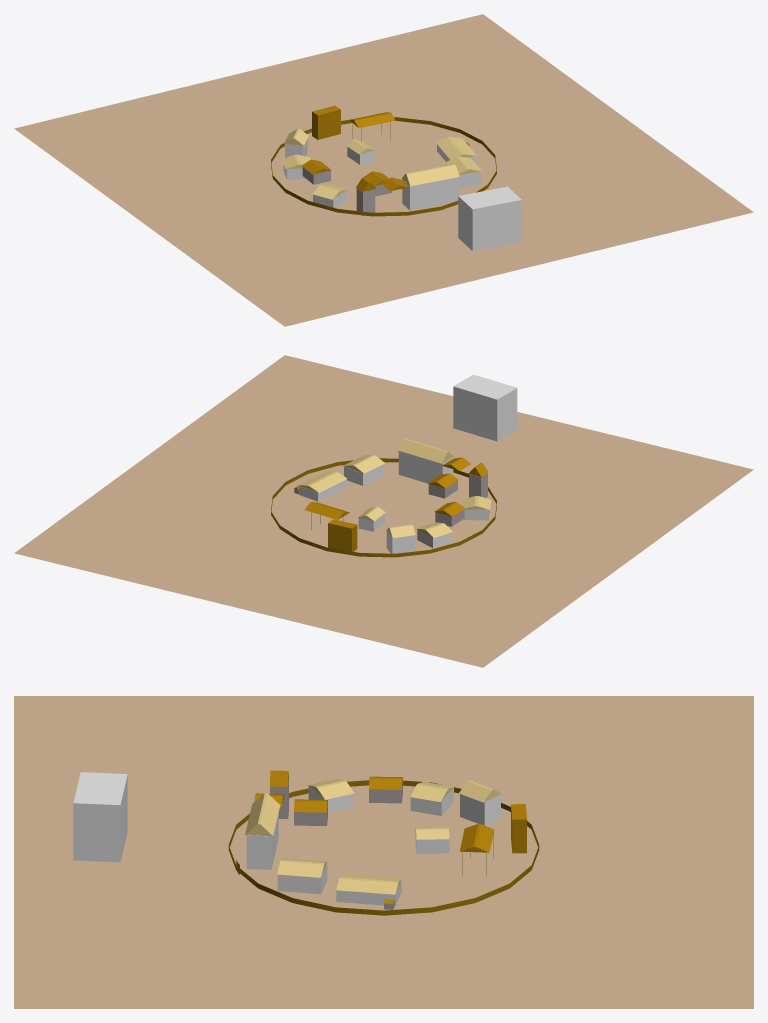
Rendered from townLayout.fbx.
3 renders of one model, top to bottom at view 1: azimuth 30°, elevation 25°; view 2: azimuth 150°, elevation 25°; view 3: azimuth 270°, elevation 25°, orthographic. The views are drawn at different scales.
Visible parts, largest first — view 1: groundPlane, manor, wallOuter, dragonShed, gateHouse, dragonShedRoof, storeHouseRoof; view 2: groundPlane, manor, wallOuter, dragonShed, gateHouse, dragonShedRoof, storeHouseRoof; view 3: groundPlane, manor, wallOuter, dragonShed, dragonShedRoof, storeHouseRoof, guardQuarters, woolHouse, market, woolHouseRoof, gateHouse, storeHouse (+5 smaller).
Boxes of the visible parts, x1,y1,x2,y2 form: groundPlane: (14, 14, 753, 326); manor: (458, 186, 521, 251); wallOuter: (271, 117, 496, 216); dragonShed: (402, 177, 459, 210); gateHouse: (312, 105, 340, 139); dragonShedRoof: (402, 164, 459, 186); storeHouseRoof: (435, 137, 476, 159); groundPlane: (14, 355, 753, 667); manor: (453, 374, 517, 441); wallOuter: (271, 458, 496, 557); dragonShed: (398, 451, 453, 483); gateHouse: (328, 519, 357, 551); dragonShedRoof: (398, 438, 453, 463); storeHouseRoof: (298, 471, 347, 492); groundPlane: (14, 696, 753, 1008); manor: (73, 772, 127, 862); wallOuter: (228, 780, 539, 915); dragonShed: (246, 813, 278, 869); dragonShedRoof: (245, 793, 280, 836); storeHouseRoof: (336, 874, 401, 894); guardQuarters: (460, 794, 500, 825); woolHouse: (277, 863, 327, 894); market: (459, 824, 494, 852); woolHouseRoof: (277, 858, 327, 877); gateHouse: (511, 804, 526, 853); storeHouse: (336, 880, 401, 906).
Bounding box in the file's own units: 100 × 9.9 × 100.
